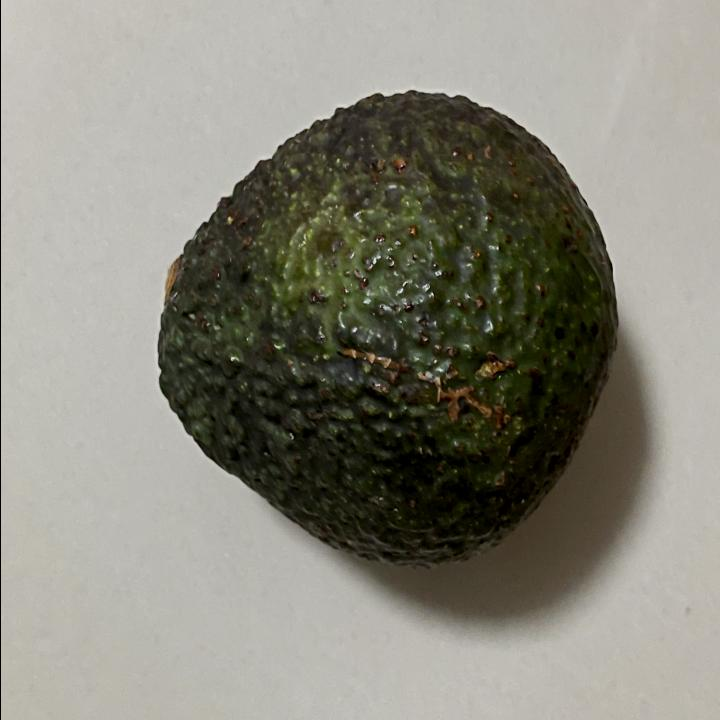Level1: (143, 74, 623, 577)
